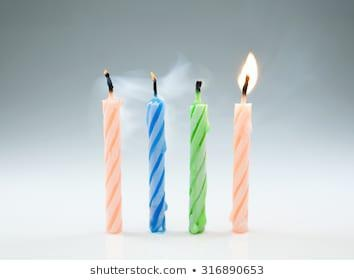fire: (223, 49, 255, 238), (99, 87, 124, 234), (236, 49, 259, 98), (148, 68, 158, 80)
